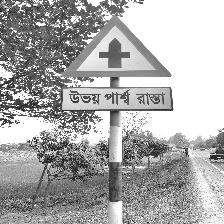Crossroad: (59, 15, 175, 113)
